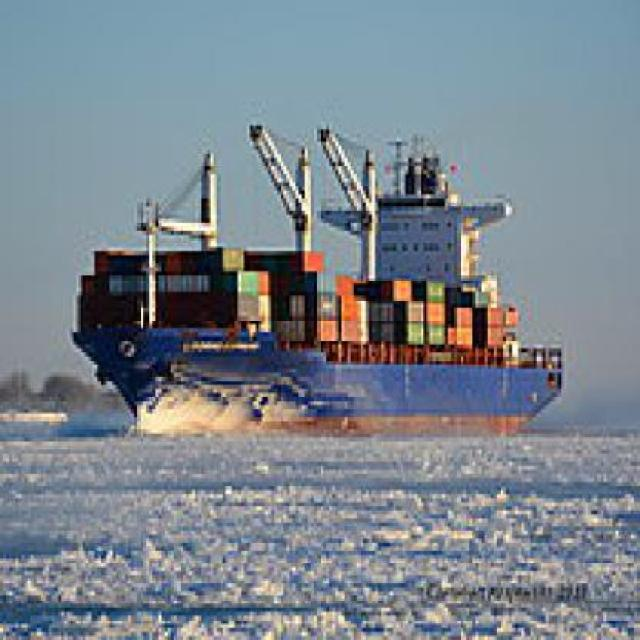container: (62, 102, 574, 446)
